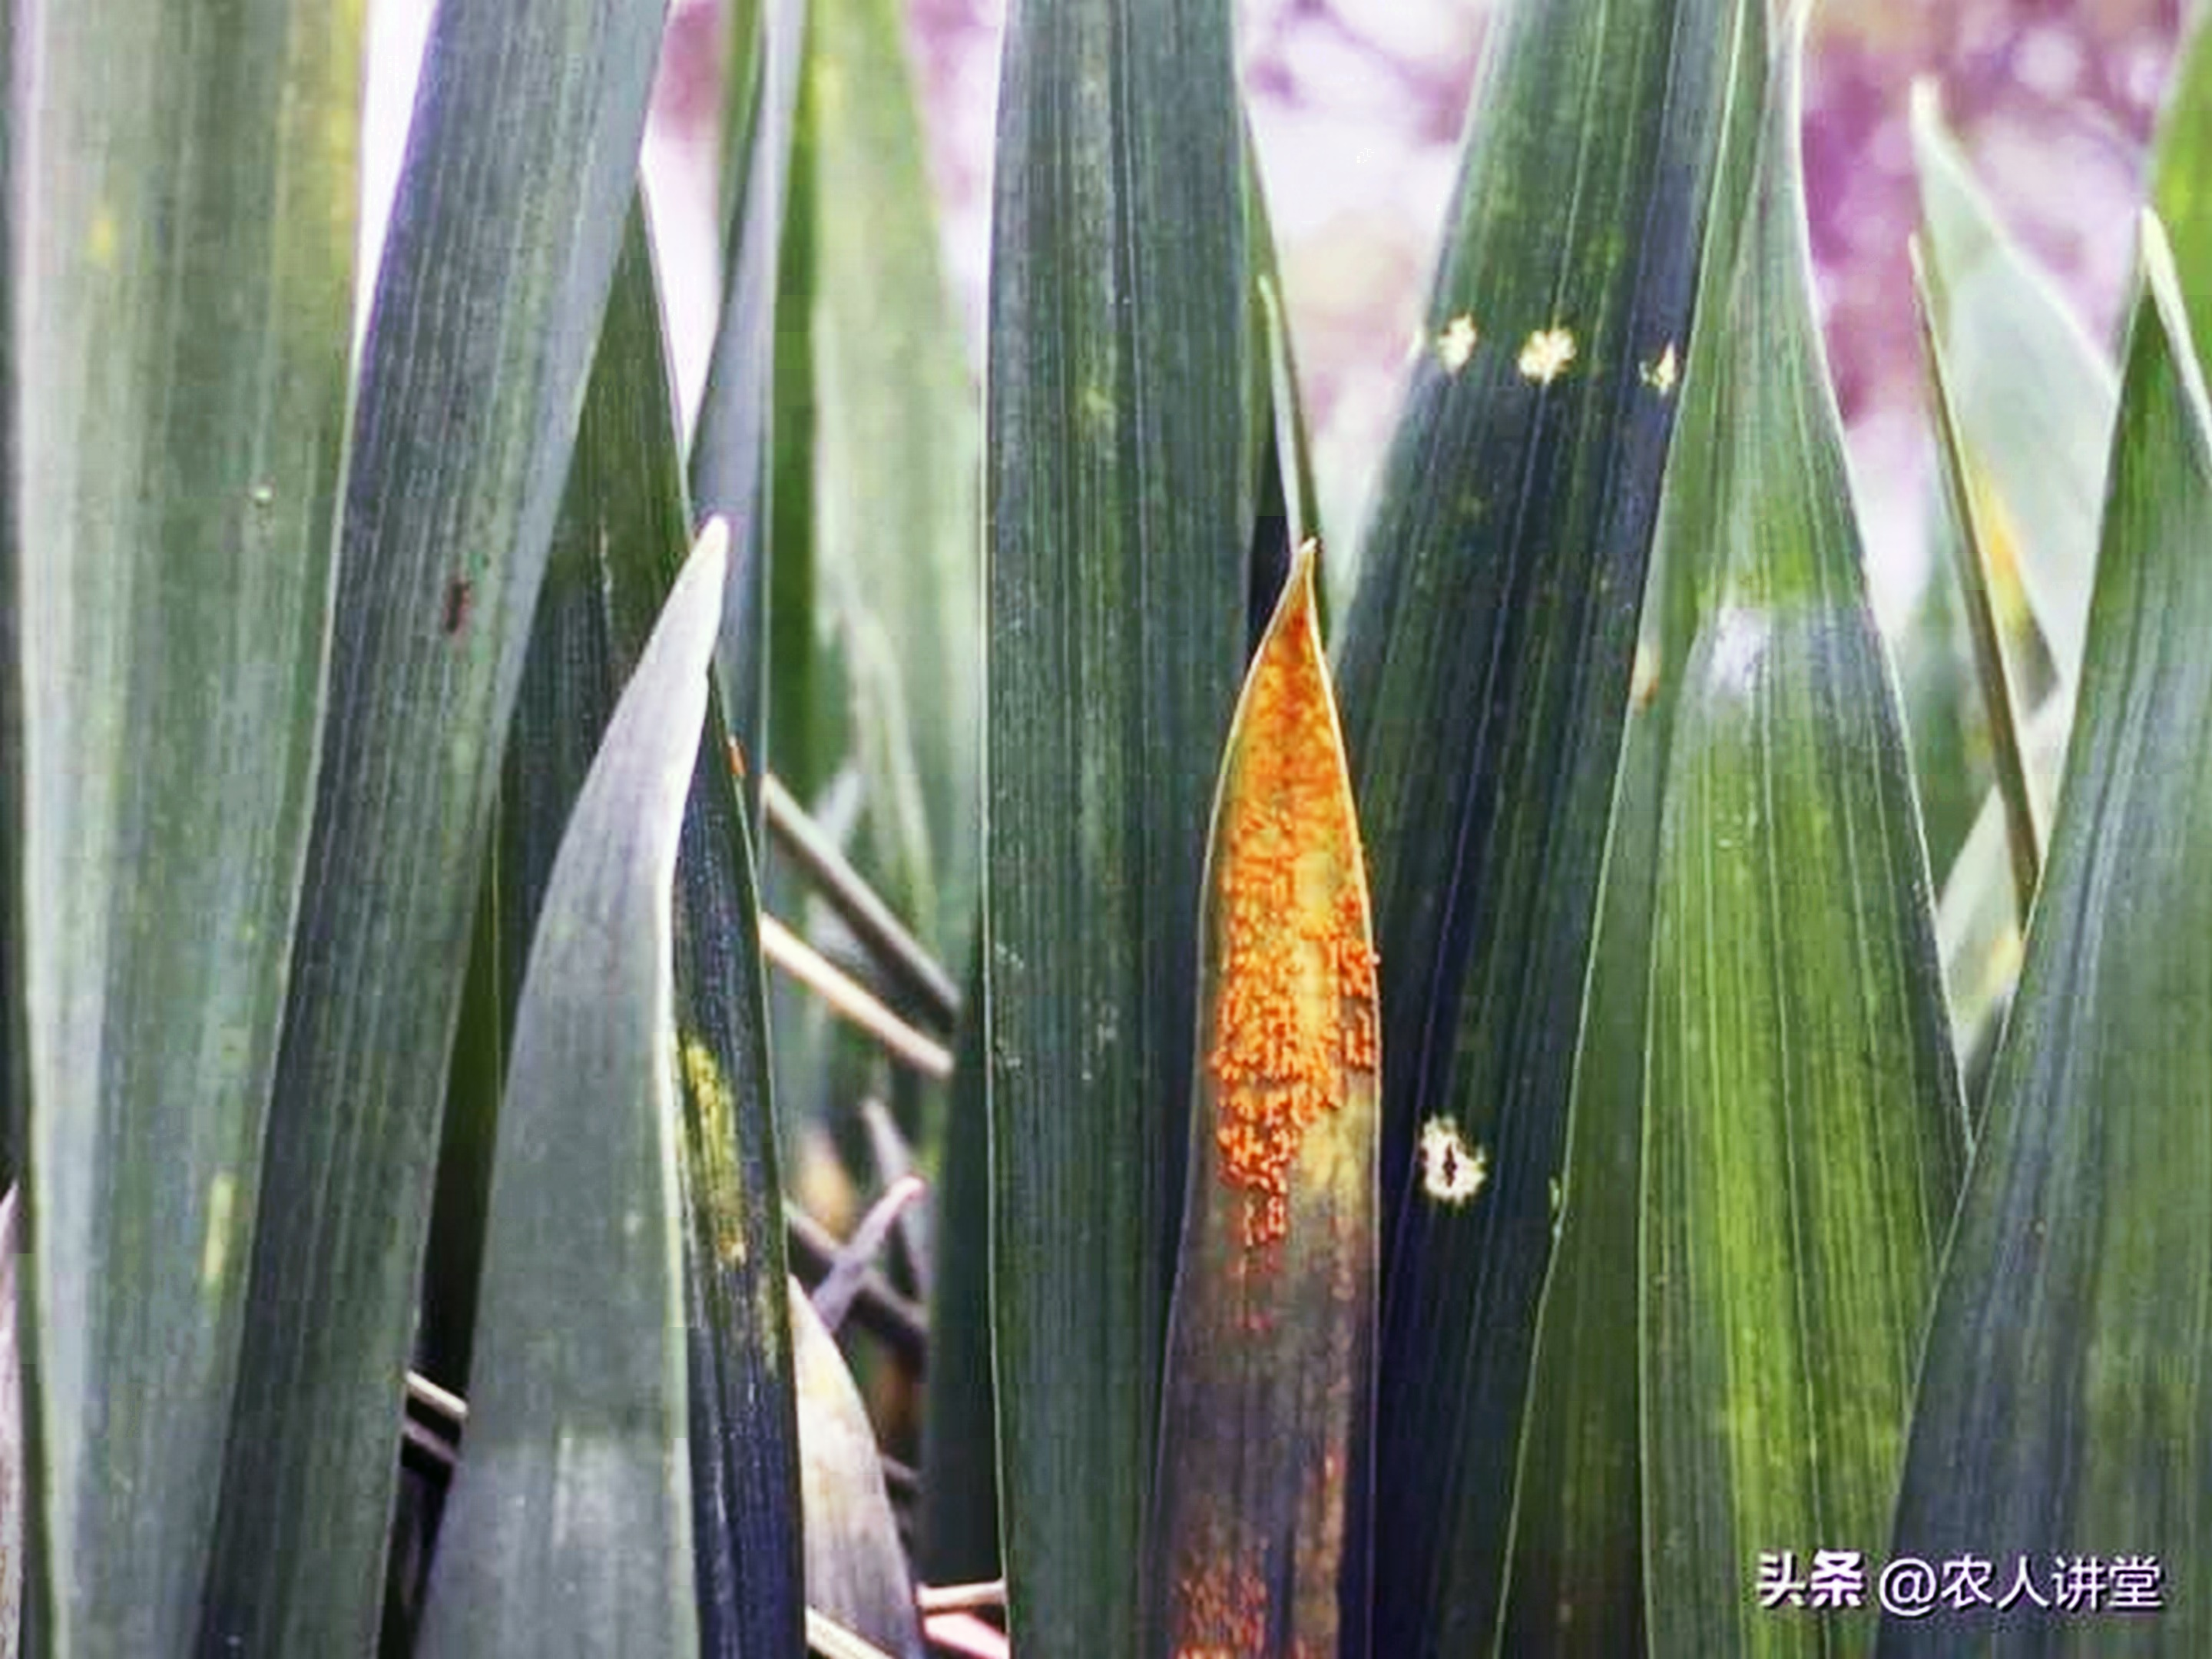Leaf Rust: (1141, 633, 1430, 1309)
